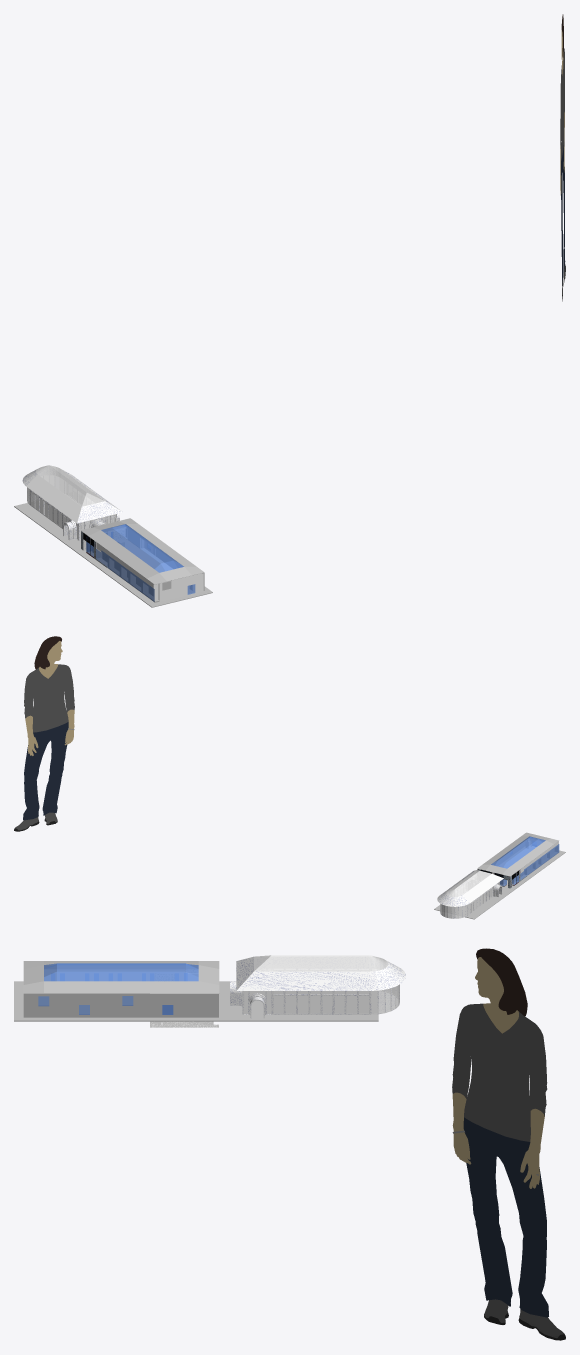
File: GalleryInterior.obj
3 renders of one model, top to bottom at view 1: azimuth 30°, elevation 25°; view 2: azimuth 150°, elevation 25°; view 3: azimuth 270°, elevation 25°, orthographic. The views are drawn at different scales.
Parts seen in each view (by area): view 1: Ground_Cube, Roof_Cube.014, SketchUp_ID226, RoofGlass_Cube.015, SketchUp.199_ID1194, SketchUp.198_ID1186, SketchUp.294_ID229, SketchUp.348_ID680; view 2: instance_0.002_ID5, instance_0.010_ID81, Ground_Cube, Roof_Cube.014, SketchUp_ID226, RoofGlass_Cube.015, SketchUp.199_ID1194, SketchUp.198_ID1186, instance_0.004_ID27, instance_0.003_ID17; view 3: instance_0.002_ID5, instance_0.010_ID81, SketchUp_ID226, Ground_Cube, BuildingStructureWall_Cube.004, Roof_Cube.014, RoofGlass_Cube.015, SketchUp.199_ID1194, instance_0.004_ID27, instance_0.003_ID17, instance_0.006_ID47.001, StructureBeam_Cube.006.
Part boxes in pixels (box(x1,y1,x2,y2)): Ground_Cube: box(14, 496, 212, 607); Roof_Cube.014: box(81, 518, 204, 584); SketchUp_ID226: box(22, 466, 122, 540); RoofGlass_Cube.015: box(101, 524, 183, 572); SketchUp.199_ID1194: box(36, 465, 104, 506); SketchUp.198_ID1186: box(26, 475, 81, 523); SketchUp.294_ID229: box(153, 573, 203, 601); SketchUp.348_ID680: box(101, 550, 154, 601); instance_0.002_ID5: box(24, 664, 74, 732); instance_0.010_ID81: box(23, 722, 68, 820); Ground_Cube: box(434, 847, 565, 919); Roof_Cube.014: box(477, 832, 558, 876); SketchUp_ID226: box(437, 870, 502, 918); RoofGlass_Cube.015: box(491, 836, 545, 868); SketchUp.199_ID1194: box(446, 870, 491, 896); SketchUp.198_ID1186: box(463, 874, 503, 902); instance_0.004_ID27: box(34, 636, 61, 669); instance_0.003_ID17: box(39, 641, 62, 678); instance_0.002_ID5: box(452, 1003, 547, 1141); instance_0.010_ID81: box(463, 1117, 548, 1317); SketchUp_ID226: box(230, 956, 405, 1018); Ground_Cube: box(14, 981, 378, 1021); BuildingStructureWall_Cube.004: box(23, 993, 218, 1017); Roof_Cube.014: box(23, 961, 219, 993); RoofGlass_Cube.015: box(44, 963, 198, 981); SketchUp.199_ID1194: box(254, 955, 388, 971); instance_0.004_ID27: box(476, 948, 527, 1016); instance_0.003_ID17: box(475, 957, 518, 1033); instance_0.006_ID47.001: box(520, 1108, 544, 1188); StructureBeam_Cube.006: box(44, 969, 178, 972).
Size of the model in its own units: 1993 by 983 by 1158.
